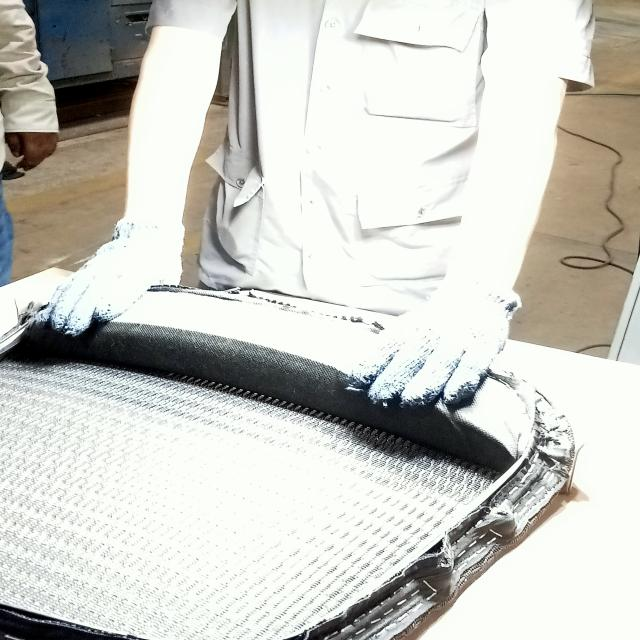Gloves-Detection: (47, 234, 136, 332), (368, 332, 473, 398)
